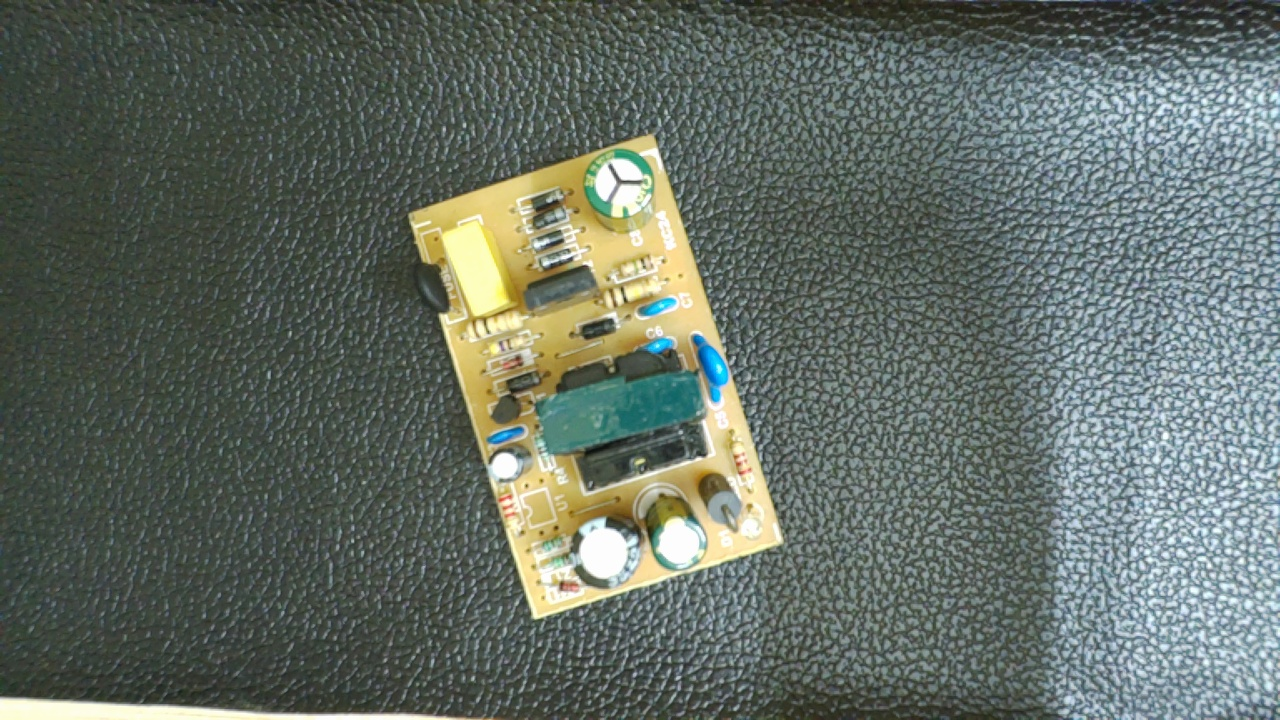fuse: (411, 246, 462, 323)
hv_capacitor: (582, 146, 657, 234)
mov: (686, 327, 732, 411)
